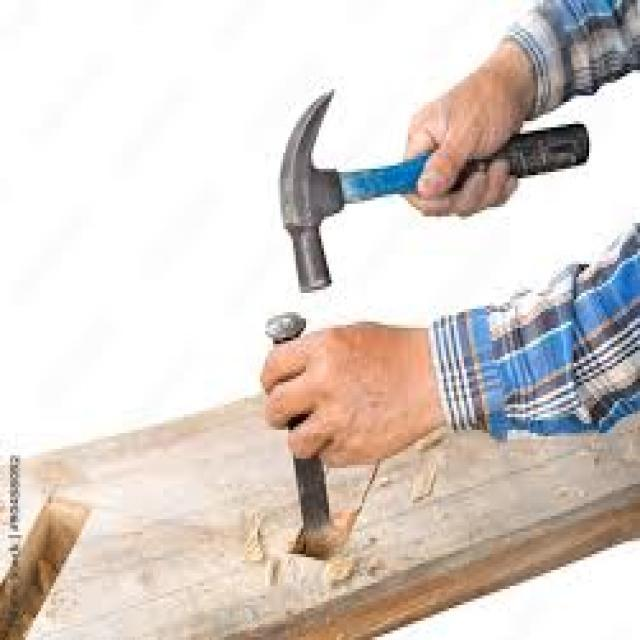hammer: (264, 74, 595, 294)
